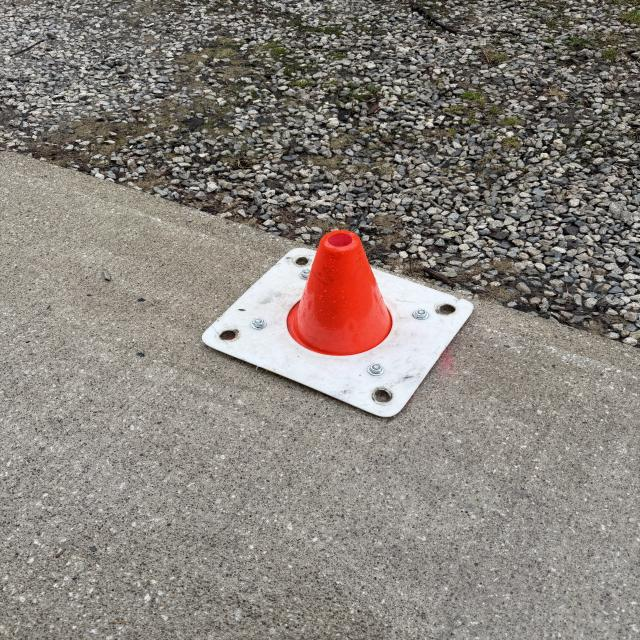Traffic Cone: (200, 230, 480, 420)
